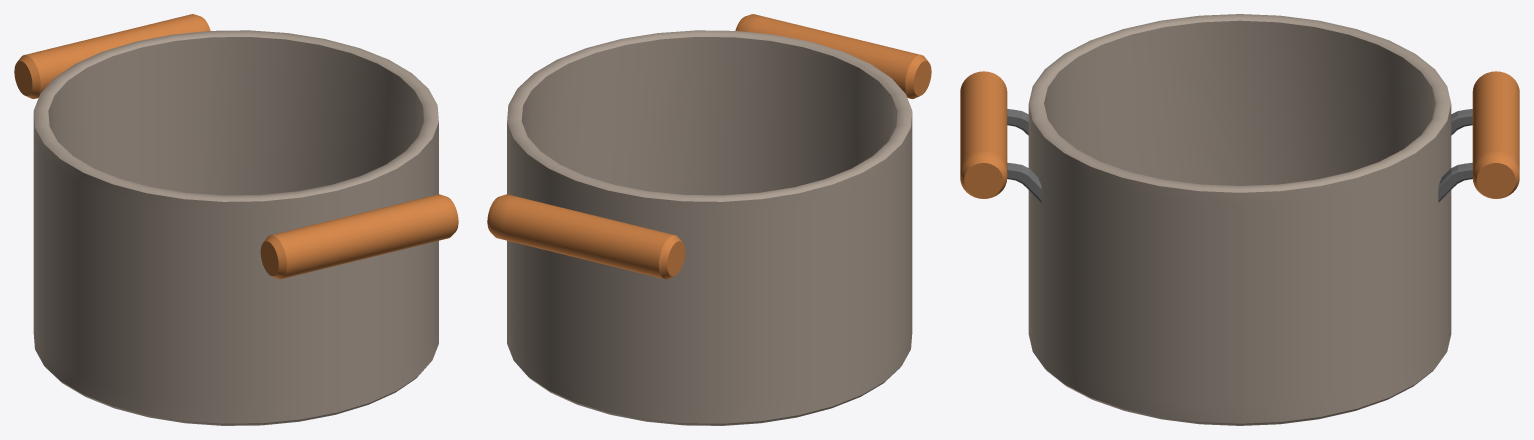
File: M6BO_Model_Pot.fbx
The picture shows the model from 3 angles, left to right: view 1: azimuth 30°, elevation 25°; view 2: azimuth 150°, elevation 25°; view 3: azimuth 270°, elevation 25°; orthographic projection. The views are drawn at different scales.
Parts seen in each view (by area): view 1: Handvaten metaal; view 2: Handvaten metaal; view 3: Handvaten metaal.
Part boxes in pixels (bbox=[...]): Handvaten metaal: bbox=[14, 14, 458, 425]; Handvaten metaal: bbox=[487, 14, 931, 425]; Handvaten metaal: bbox=[960, 14, 1519, 425].
Size of the model in its own units: 200 by 124 by 265.
